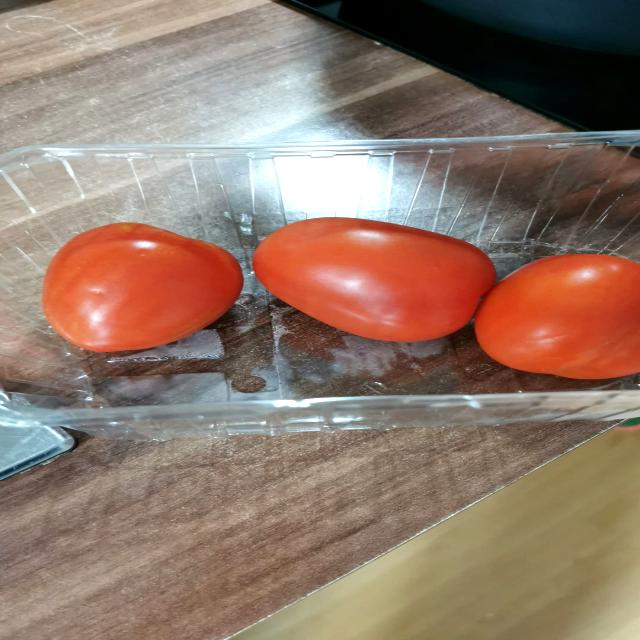tomato: (33, 211, 249, 360), (255, 210, 490, 344), (482, 239, 640, 384)
